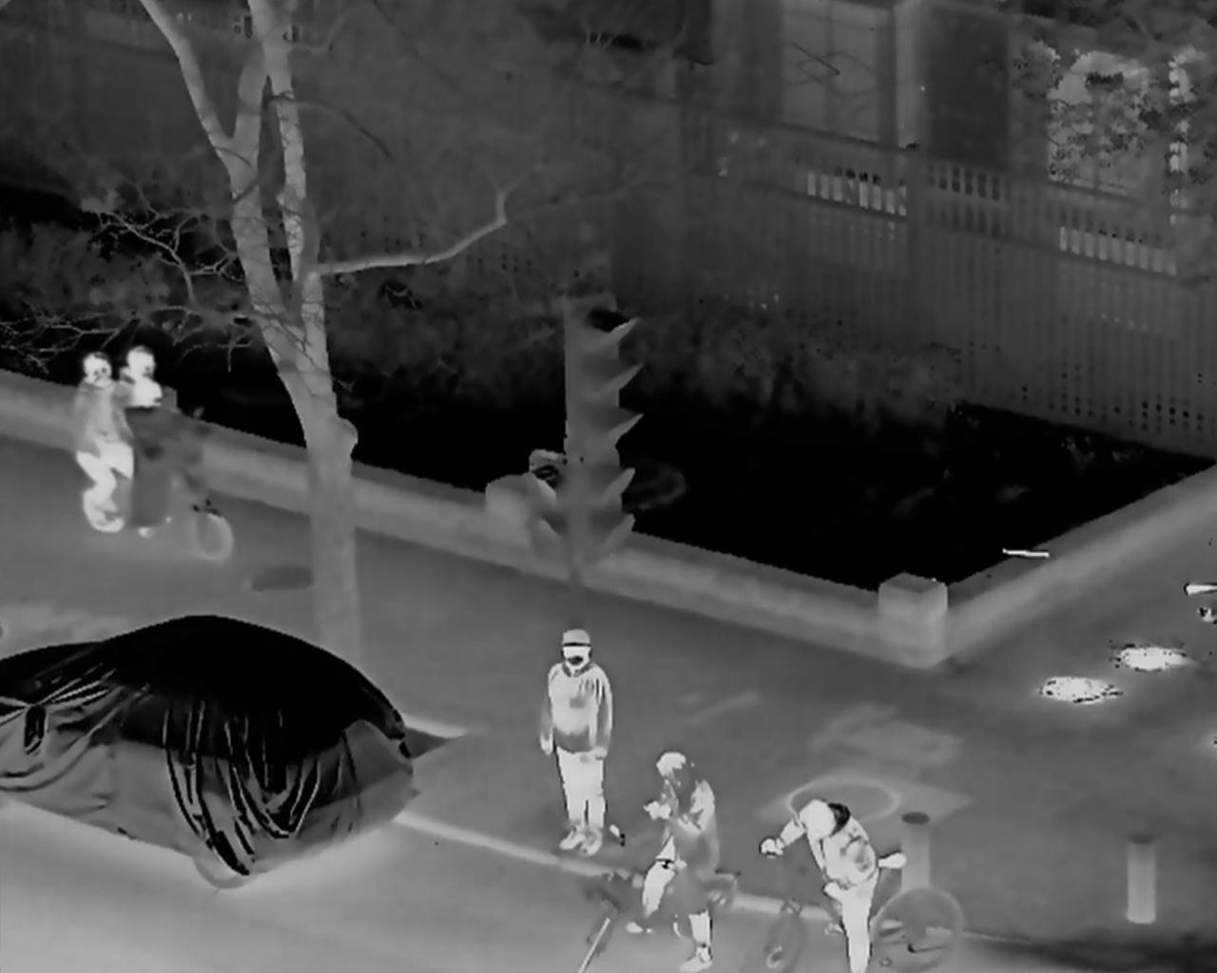person: (756, 795, 879, 973), (629, 752, 726, 973), (537, 622, 614, 865), (108, 353, 195, 534), (67, 356, 126, 526)
